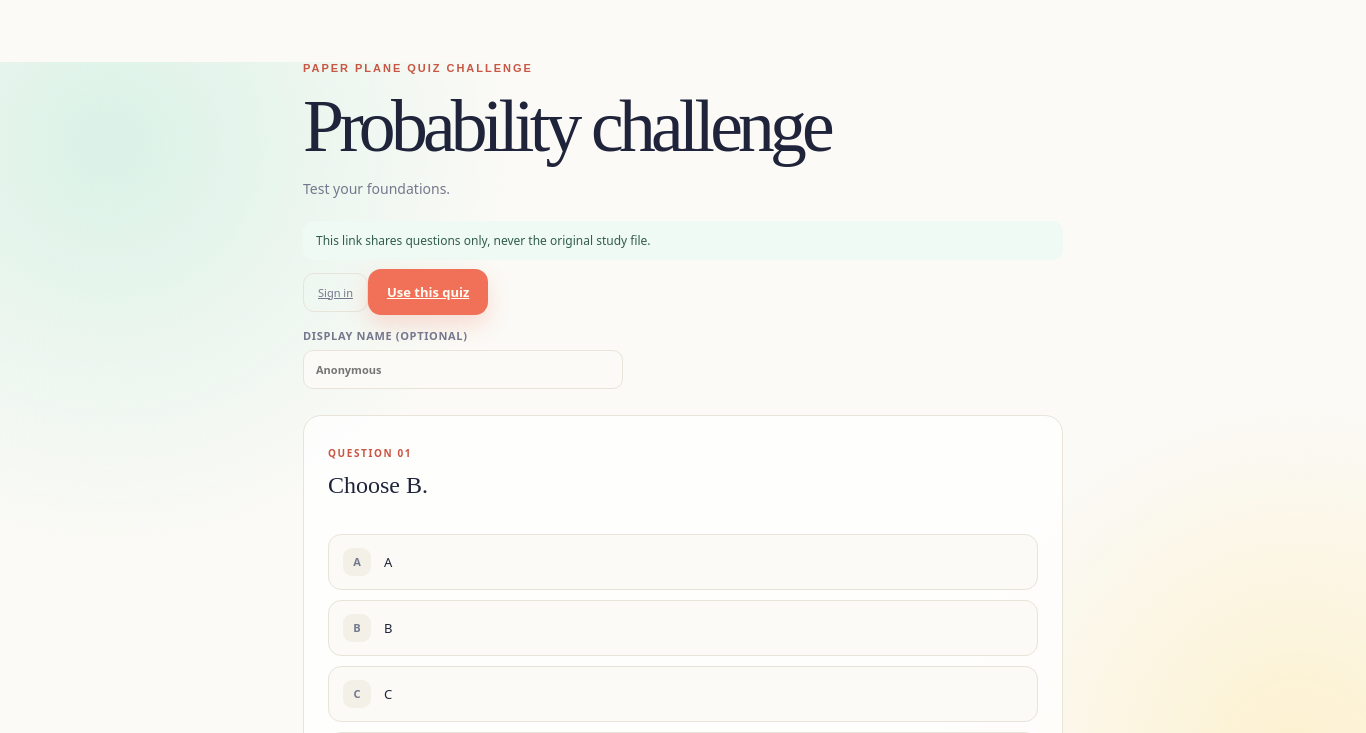
Test: lets a visitor take a shared quiz without exposing the answer before submission
expect the heading "Probability challenge" is shown: met, box 303,85 -> 830,167
expect the text "B is right." is not shown: met
Click the button "B B": click(357, 628) 328,600 -> 1038,656
(page scrolled)
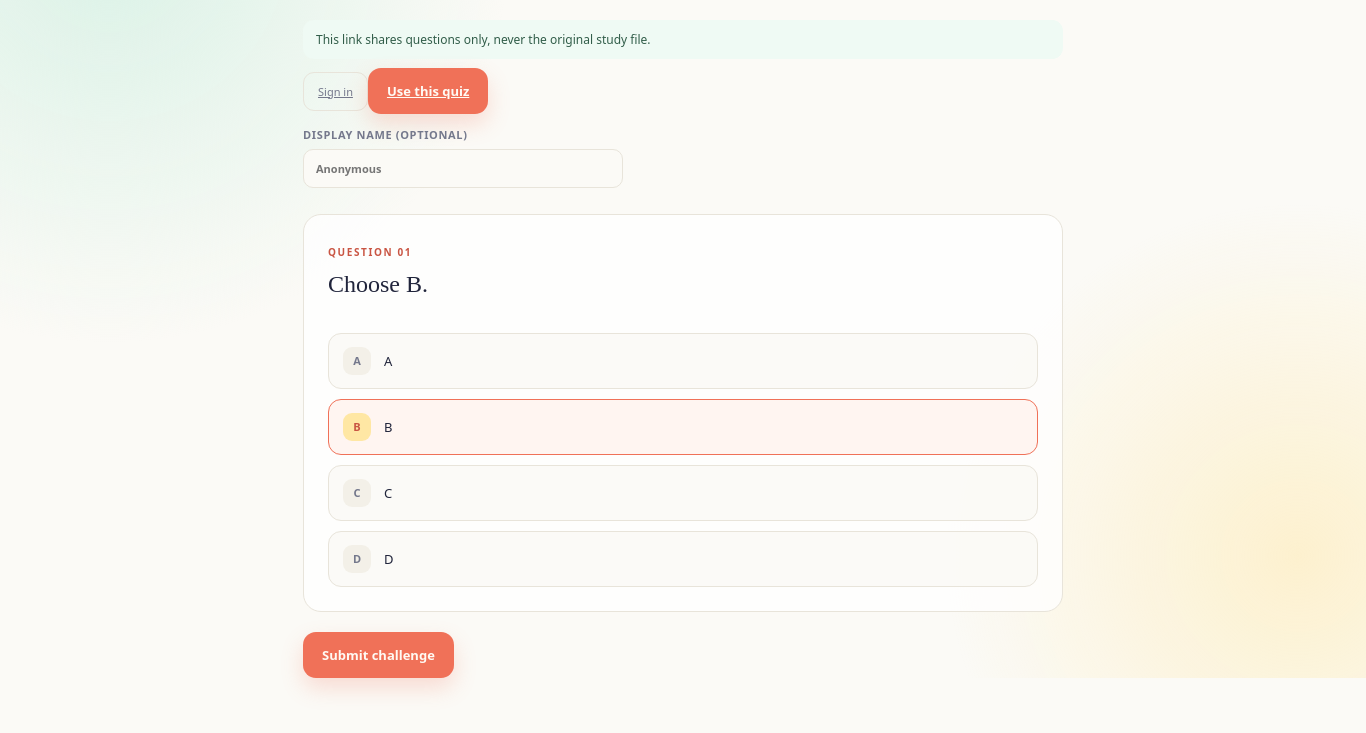
Click the button "Submit challenge": click(378, 655) 303,632 -> 454,678
(page scrolled)
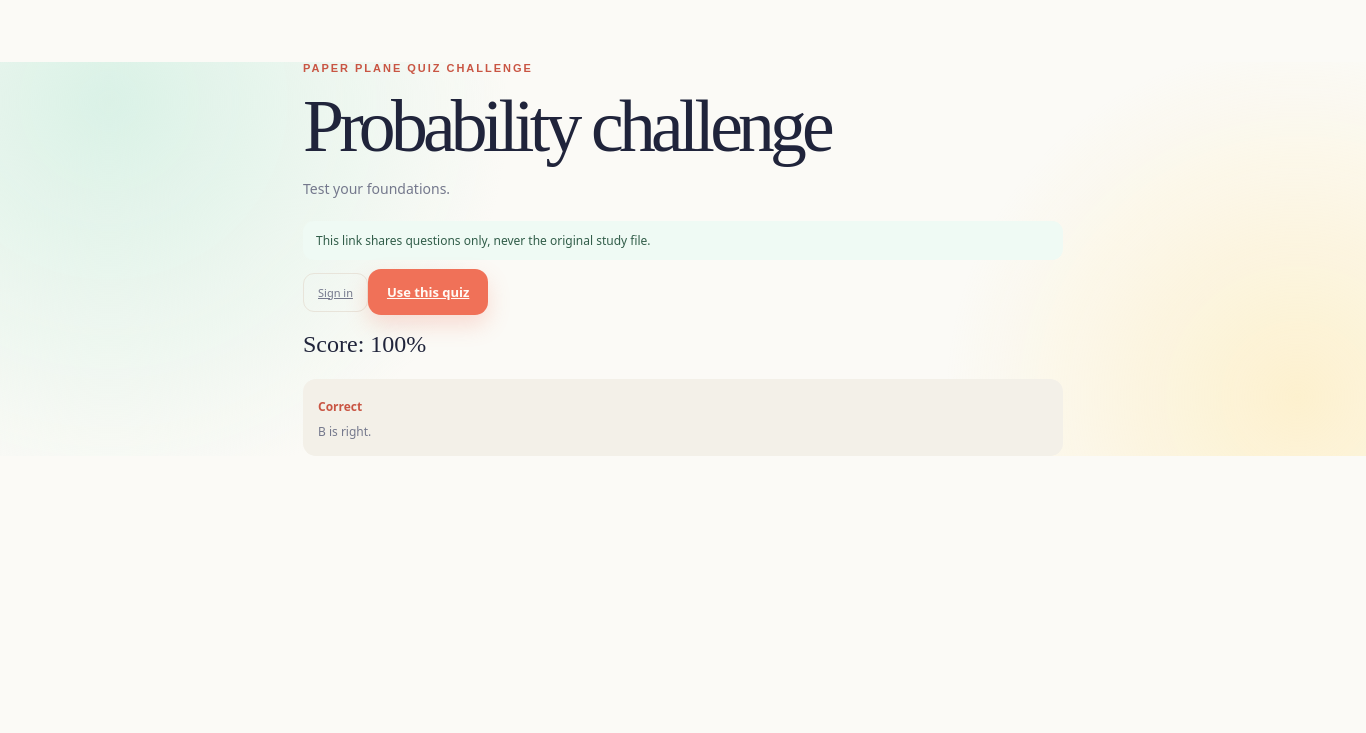
expect the text "B is right." is shown: met, box 318,423 -> 371,440
expect the heading "Score: 100%" is shown: met, box 303,331 -> 426,357
